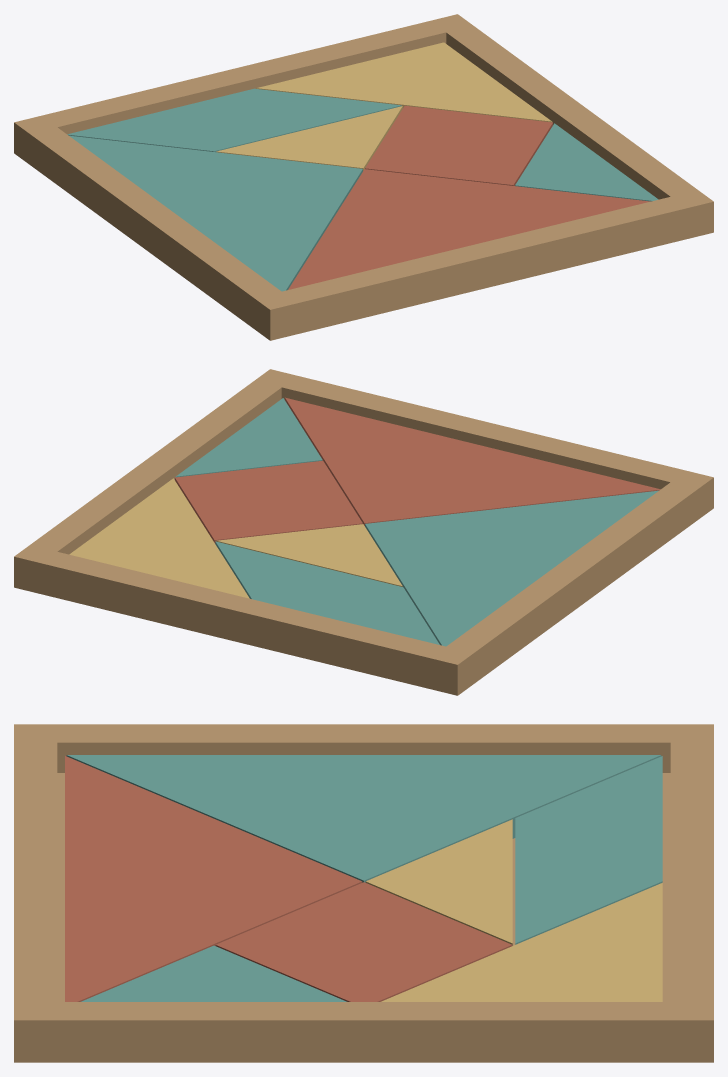
3 views of the same model, one above another, from view 1: azimuth 30°, elevation 25°; view 2: azimuth 150°, elevation 25°; view 3: azimuth 270°, elevation 25° (orthographic). The views are drawn at different scales.
Parts seen in each view (by area): view 1: WholeRecessedWoodenTray, LargeTriangle_B, LargeTriangle_A, Parallelogram, MediumTriangle, Square, SmallTriangle_B, SmallTriangle_A; view 2: WholeRecessedWoodenTray, LargeTriangle_A, LargeTriangle_B, Square, Parallelogram, MediumTriangle, SmallTriangle_B, SmallTriangle_A; view 3: WholeRecessedWoodenTray, LargeTriangle_B, LargeTriangle_A, Square, Parallelogram, MediumTriangle, SmallTriangle_B, SmallTriangle_A.
Boxes of the visible parts, x1,y1,x2,y2 form: WholeRecessedWoodenTray: (14,14,713,340); LargeTriangle_B: (69,135,362,291); LargeTriangle_A: (288,169,650,289); Parallelogram: (67,88,401,152); MediumTriangle: (256,42,552,122); Square: (365,105,552,185); SmallTriangle_B: (216,106,402,170); SmallTriangle_A: (515,123,658,201); WholeRecessedWoodenTray: (14,369,713,695); LargeTriangle_A: (285,397,660,525); LargeTriangle_B: (365,490,658,646); Square: (175,460,362,543); Parallelogram: (215,541,439,644); MediumTriangle: (69,478,249,598); SmallTriangle_B: (216,524,402,586); SmallTriangle_A: (175,398,322,477); WholeRecessedWoodenTray: (14,724,713,1062); LargeTriangle_B: (66,755,661,882); LargeTriangle_A: (65,756,362,1001); Square: (215,882,512,1001); Parallelogram: (515,756,662,944); MediumTriangle: (381,883,662,1001); SmallTriangle_B: (365,819,512,945); SmallTriangle_A: (81,945,346,1001).
Size of the model in its own units: 0.21 by 0.014 by 0.21.
